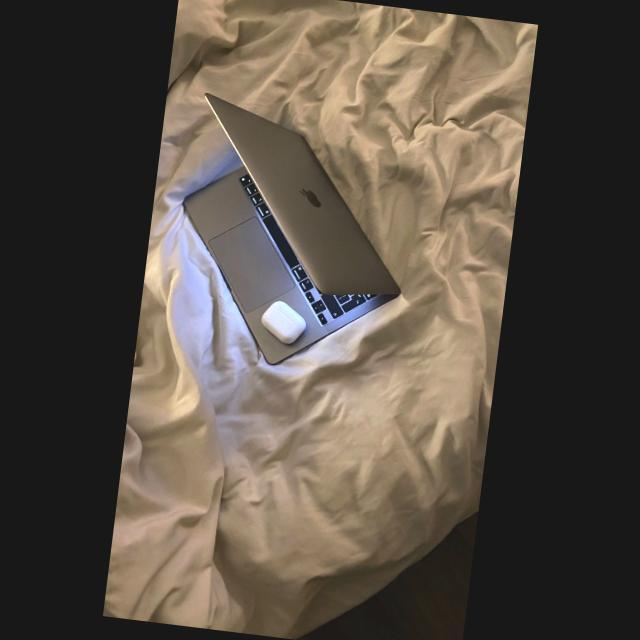laptop: (184, 94, 399, 363)
